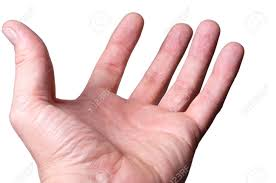palm: (68, 90, 183, 174)
